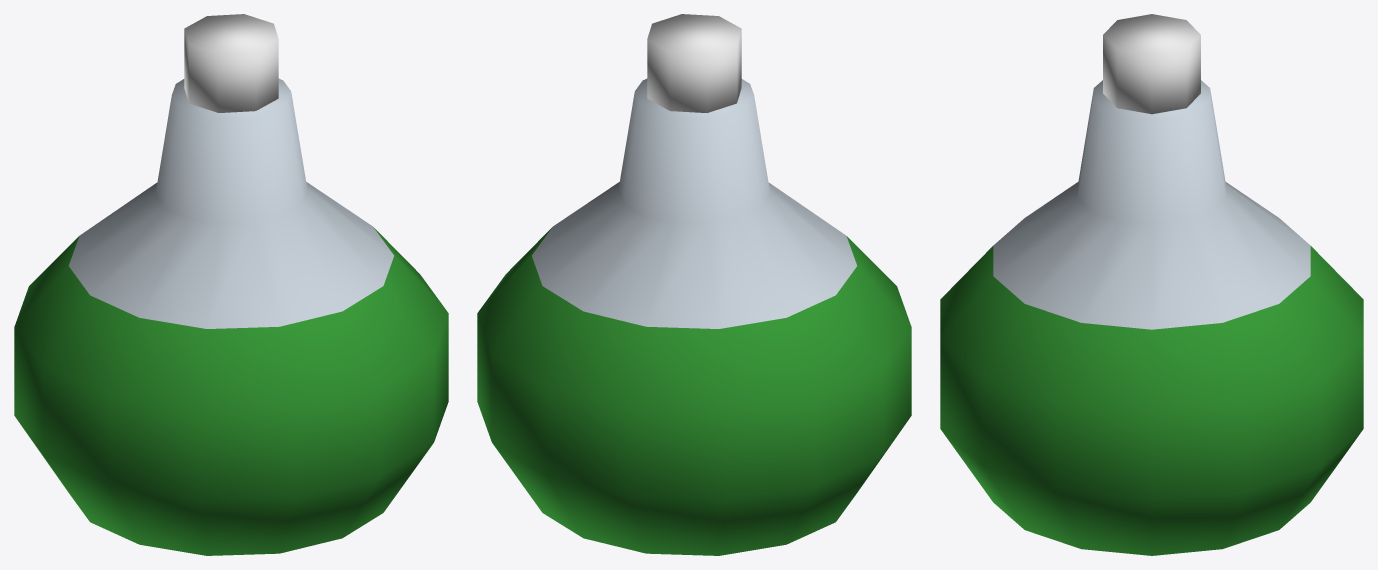
The model's file is green_dye.glb.
The picture shows the model from 3 angles, left to right: view 1: azimuth 30°, elevation 25°; view 2: azimuth 150°, elevation 25°; view 3: azimuth 270°, elevation 25°; orthographic projection.
Visible parts, largest first — view 1: green_dye_v0; view 2: green_dye_v0; view 3: green_dye_v0.
Part boxes in pixels (<box>): green_dye_v0: <box>14,14,448,555</box>; green_dye_v0: <box>477,14,911,555</box>; green_dye_v0: <box>940,14,1363,555</box>.
Size of the model in its own units: 0.24 by 0.276 by 0.234.
